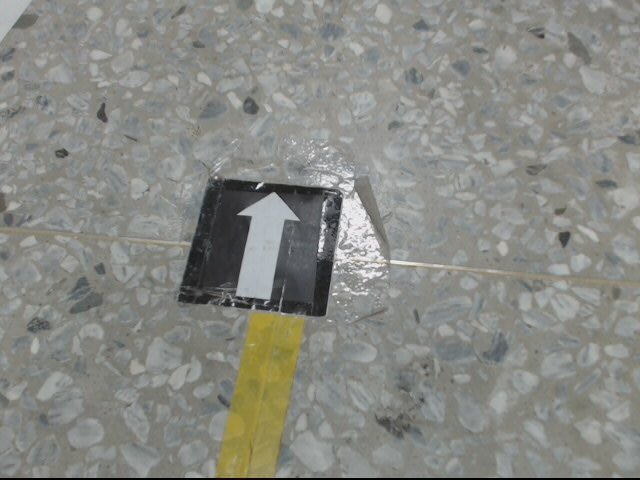straight: (176, 173, 345, 319)
